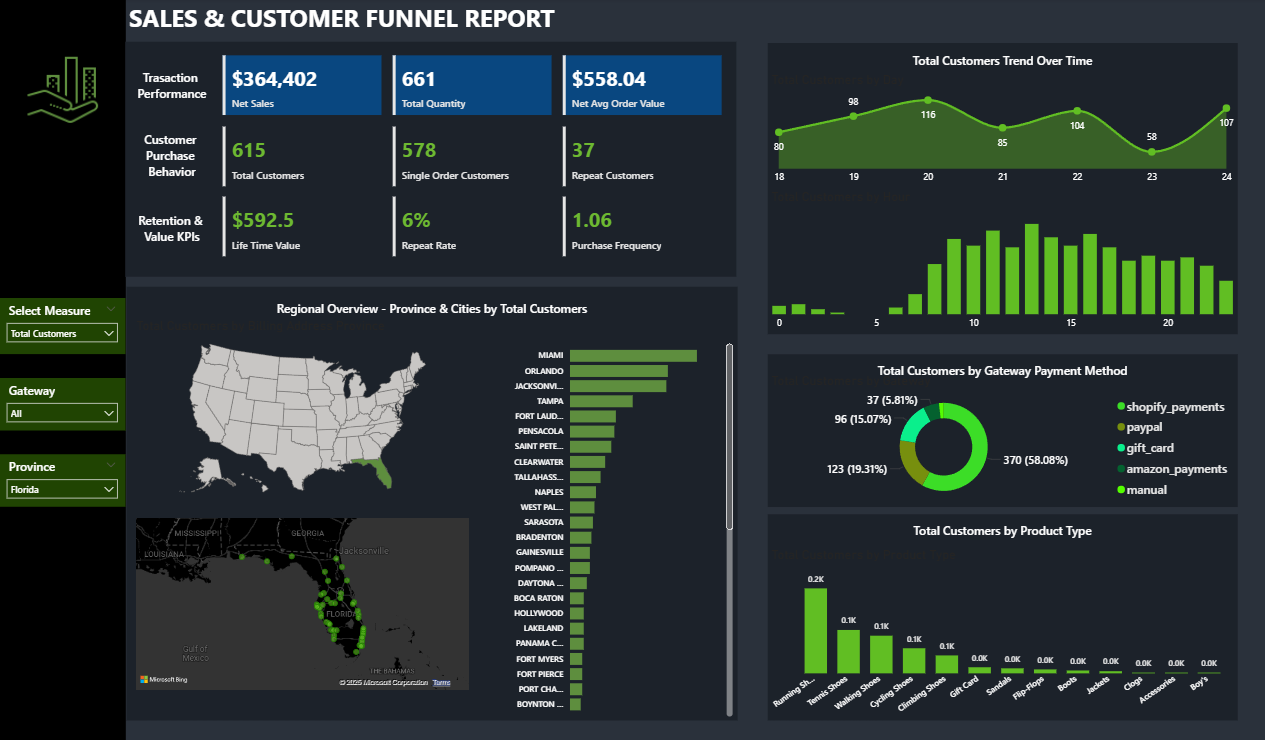

The page's visual inventory and layout, read from the dashboard file:
{"tool":"powerbi","page":{"name":"Shopify Analysis","canvas":[1700,1000],"ordinal":0},"visuals":[{"type":"shape","box":[0,0,170,999],"z":0},{"type":"textbox","box":[169.2,0,754,58.6],"z":1000},{"type":"shape","box":[169.2,58.6,819.4,315],"z":2000},{"type":"cardVisual","fields":{"Data":["shopify_sales.Net Sales","shopify_sales.Total Quantity","shopify_sales.Net Avg Order Value"]},"box":[294.9,72.1,680.3,90.5],"z":3000},{"type":"card","fields":{"Values":["shopify_sales.Transaction Perf"]},"box":[169.2,82.1,125.7,70.4],"z":4000},{"type":"cardVisual","fields":{"Data":["shopify_sales.Total Customers","shopify_sales.Single Order Customers","shopify_sales.Repeat Customers"]},"box":[294.9,166.7,680.3,90.5],"z":5000},{"type":"card","fields":{"Values":["shopify_sales.Customer Purchase Behavior"]},"box":[169.2,160,125.7,93.8],"z":6000},{"type":"cardVisual","fields":{"Data":["shopify_sales.Life Time Value","shopify_sales.Repeat Rate","shopify_sales.Purchase Frequency"]},"box":[294.9,261.4,680.3,90.5],"z":7000},{"type":"card","fields":{"Values":["shopify_sales.Retention & Value KPIs"]},"box":[169.2,261.4,125.7,93.8],"z":8000},{"type":"shape","box":[170.9,387.1,819.4,581.4],"z":9000},{"type":"shapeMap","fields":{"Value":["shopify_sales.Total Customers"],"Category":["shopify_sales.Billing Address Province"]},"box":[179.3,429,455.8,249.7],"z":10000},{"type":"slicer","fields":{"Values":["Select Measure.Select Measure"]},"box":[0,402.1,169.2,75.4],"z":11000},{"type":"map","fields":{"Category":["shopify_sales.Location"]},"box":[179.3,692,455.8,241.3],"z":12000},{"type":"clusteredBarChart","fields":{"Y":["shopify_sales.Total Customers"],"Category":["shopify_sales.CITY"]},"box":[673.6,450.7,315,517.8],"z":13000},{"type":"card","fields":{"Values":["shopify_sales.Map Title"]},"box":[316.7,402.1,527.8,33.5],"z":14000},{"type":"shape","box":[1030.5,60.3,630,390.4],"z":15000},{"type":"areaChart","fields":{"Y":["shopify_sales.Total Customers"],"Category":["shopify_sales.Invoice Date.Variation.Date Hierarchy.Day"]},"box":[1030.5,98.9,630,159.2],"z":16000},{"type":"clusteredColumnChart","fields":{"Y":["shopify_sales.Total Customers"],"Category":["shopify_sales.Hour"]},"box":[1030.5,256.4,630,197.7],"z":17000},{"type":"card","fields":{"Values":["shopify_sales.Trend Title"]},"box":[1204.8,72.1,281.5,26.8],"z":18000},{"type":"shape","box":[1030.5,477.5,630,205],"z":19000},{"type":"donutChart","fields":{"Y":["shopify_sales.Total Customers"],"Category":["shopify_sales.Gateway"]},"box":[1030.5,502.7,630,179.3],"z":20000},{"type":"card","fields":{"Values":["shopify_sales.Gateway Title"]},"box":[1151.1,487.6,388.7,28.5],"z":21000},{"type":"shape","box":[1030.5,692,630,276.5],"z":22000},{"type":"columnChart","fields":{"Y":["shopify_sales.Total Customers"],"Category":["shopify_sales.Product Type"]},"box":[1030.5,735.6,630,232.9],"z":23000},{"type":"card","fields":{"Values":["shopify_sales.Product Title"]},"box":[1142.8,697.1,405.5,38.5],"z":24000},{"type":"slicer","fields":{"Values":["shopify_sales.Gateway"]},"box":[0,509.4,169.2,70.4],"z":26000},{"type":"slicer","fields":{"Values":["shopify_sales.Billing Address Province"]},"box":[0,611.6,169.2,70.4],"z":27000},{"type":"image","box":[23.5,60.3,124,125.7],"z":27001}]}

Visuals, with their boxes in screenshot pixels (x1, y1, x2, y2), scaled from the page's 1700x1000 canvas onto the 1265x740 screenshot:
shape: <bbox>0, 0, 126, 739</bbox>
textbox: <bbox>126, 0, 687, 43</bbox>
shape: <bbox>126, 43, 736, 276</bbox>
cardVisual - shopify_sales.Net Sales x shopify_sales.Total Quantity: <bbox>219, 53, 726, 120</bbox>
card - shopify_sales.Transaction Perf: <bbox>126, 61, 219, 113</bbox>
cardVisual - shopify_sales.Total Customers x shopify_sales.Single Order Customers: <bbox>219, 123, 726, 190</bbox>
card - shopify_sales.Customer Purchase Behavior: <bbox>126, 118, 219, 188</bbox>
cardVisual - shopify_sales.Life Time Value x shopify_sales.Repeat Rate: <bbox>219, 193, 726, 260</bbox>
card - shopify_sales.Retention & Value KPIs: <bbox>126, 193, 219, 263</bbox>
shape: <bbox>127, 286, 737, 717</bbox>
shapeMap - shopify_sales.Total Customers x shopify_sales.Billing Address Province: <bbox>133, 317, 473, 502</bbox>
slicer - Select Measure.Select Measure: <bbox>0, 298, 126, 353</bbox>
map - shopify_sales.Location: <bbox>133, 512, 473, 691</bbox>
clusteredBarChart - shopify_sales.Total Customers x shopify_sales.CITY: <bbox>501, 334, 736, 717</bbox>
card - shopify_sales.Map Title: <bbox>236, 298, 628, 322</bbox>
shape: <bbox>767, 45, 1236, 334</bbox>
areaChart - shopify_sales.Total Customers x shopify_sales.Invoice Date.Variation.Date Hierarchy.Day: <bbox>767, 73, 1236, 191</bbox>
clusteredColumnChart - shopify_sales.Total Customers x shopify_sales.Hour: <bbox>767, 190, 1236, 336</bbox>
card - shopify_sales.Trend Title: <bbox>897, 53, 1106, 73</bbox>
shape: <bbox>767, 353, 1236, 505</bbox>
donutChart - shopify_sales.Total Customers x shopify_sales.Gateway: <bbox>767, 372, 1236, 505</bbox>
card - shopify_sales.Gateway Title: <bbox>857, 361, 1146, 382</bbox>
shape: <bbox>767, 512, 1236, 717</bbox>
columnChart - shopify_sales.Total Customers x shopify_sales.Product Type: <bbox>767, 544, 1236, 717</bbox>
card - shopify_sales.Product Title: <bbox>850, 516, 1152, 544</bbox>
slicer - shopify_sales.Gateway: <bbox>0, 377, 126, 429</bbox>
slicer - shopify_sales.Billing Address Province: <bbox>0, 453, 126, 505</bbox>
image: <bbox>17, 45, 110, 138</bbox>
